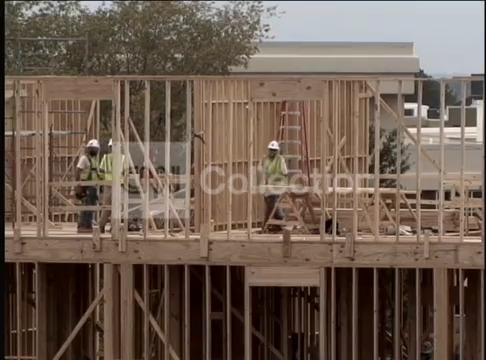Helmet: (85, 139, 100, 149), (267, 140, 280, 150)
Person: (97, 137, 133, 233), (257, 140, 290, 237), (73, 135, 102, 234)
Safety Boot: (76, 223, 92, 235)
Safety Vest: (105, 155, 127, 184), (77, 156, 98, 184), (263, 159, 285, 183)
